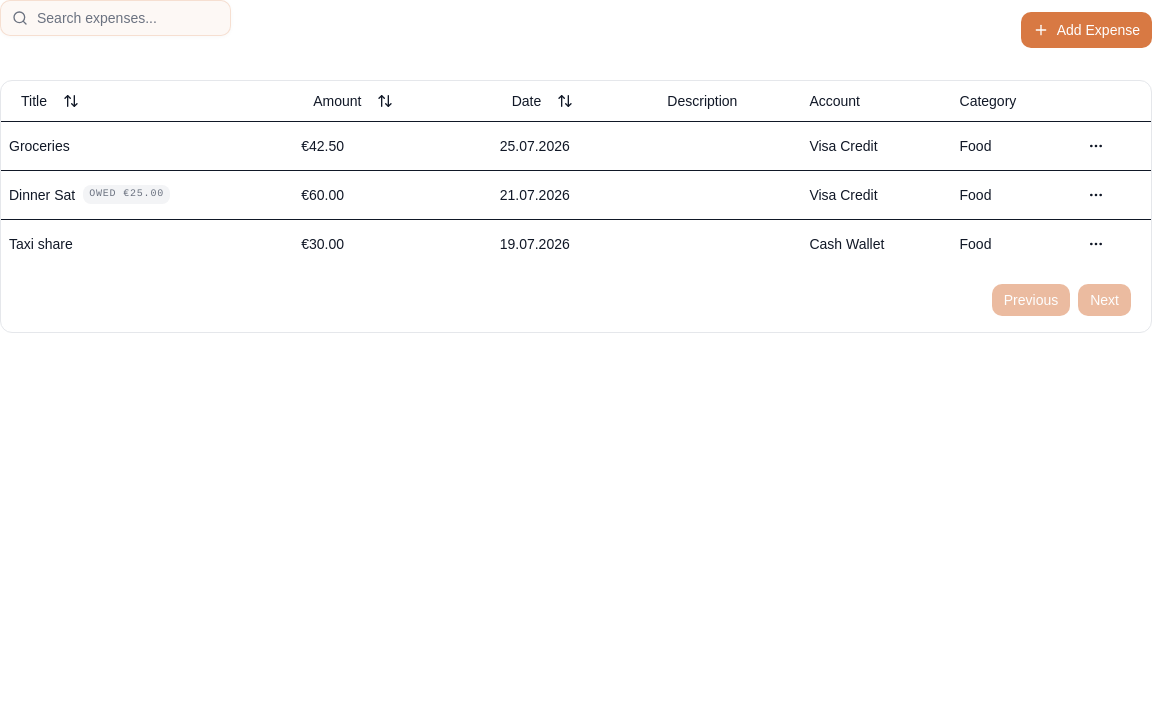
Test: ExpenseList settle action › says what a partial payback would leave outstanding
Click the button named "open menu" in the row of "Dinner Sat": (1096, 194) [1080,178,1112,210]
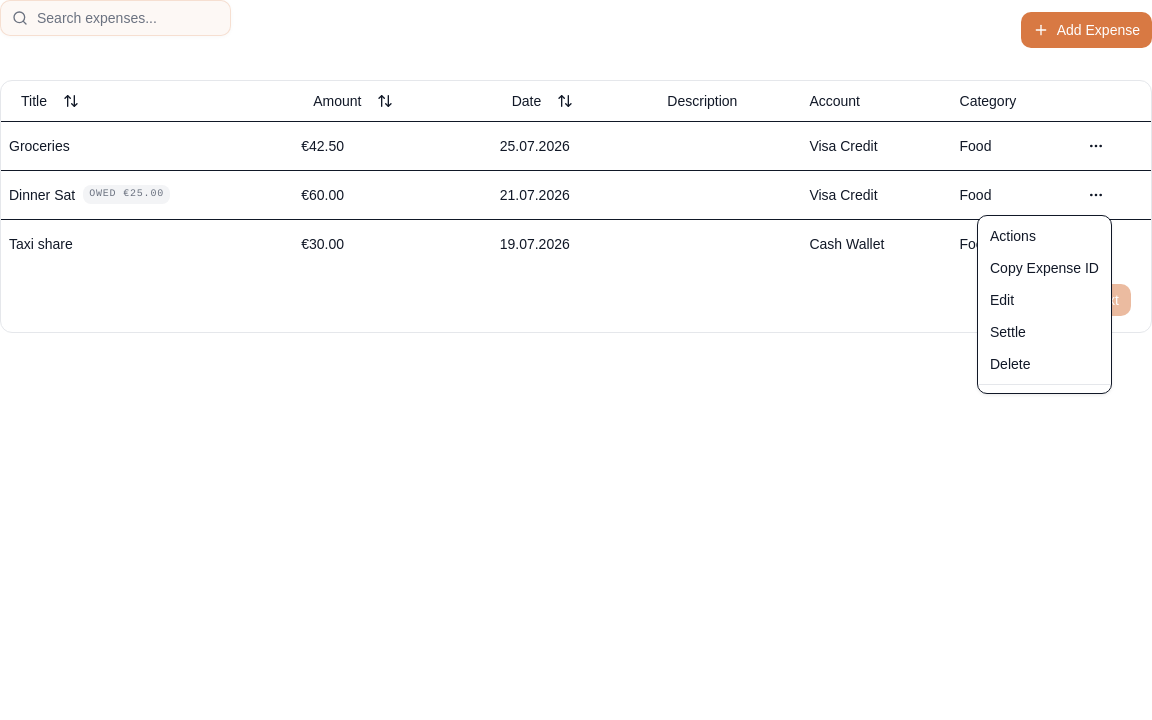
Click the menu item "Settle": (1008, 332) [990,324,1026,340]
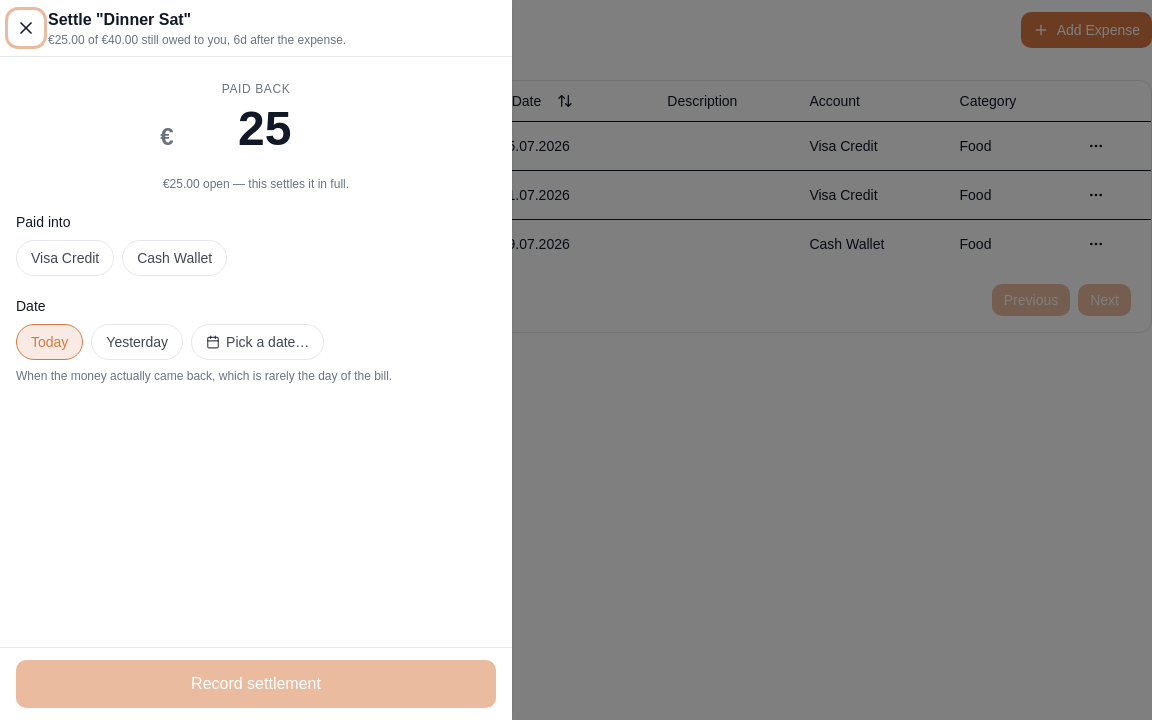
Replace the text in the field labelled "Paid back" with "10": (265, 128) [178,101,352,156]
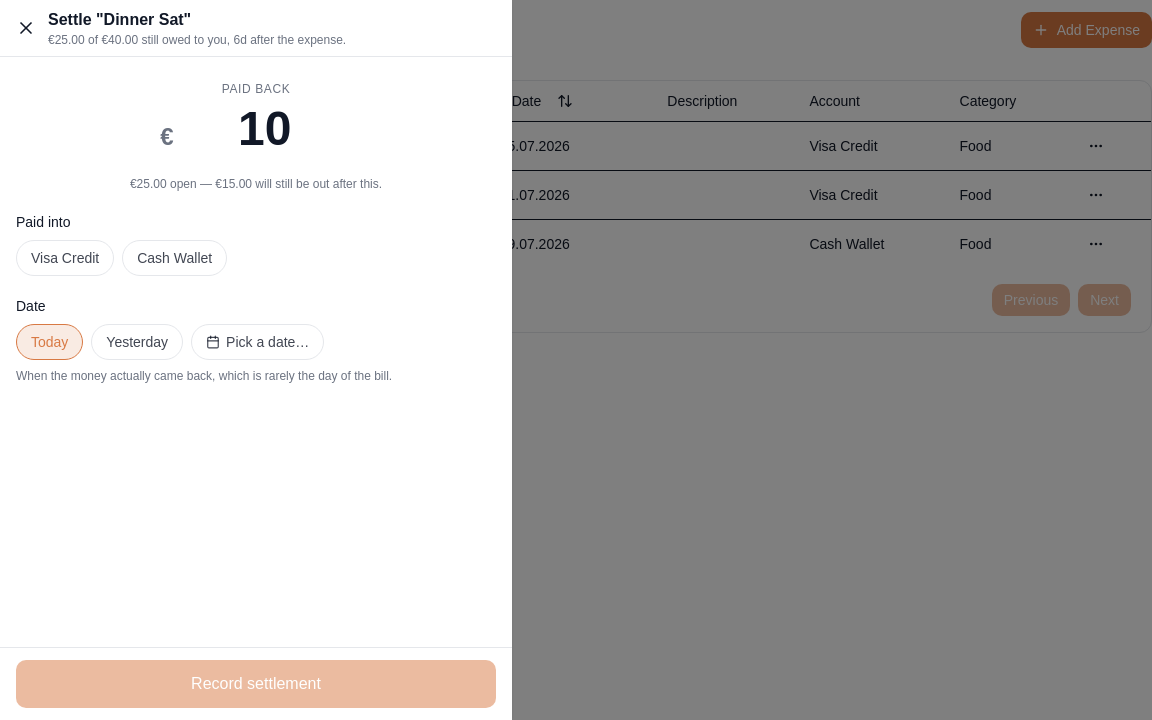
Check: the text with test id "settle-remainder" reads "€25.00 open — €15.00 will still be out after this.", box [130,177,382,191]
